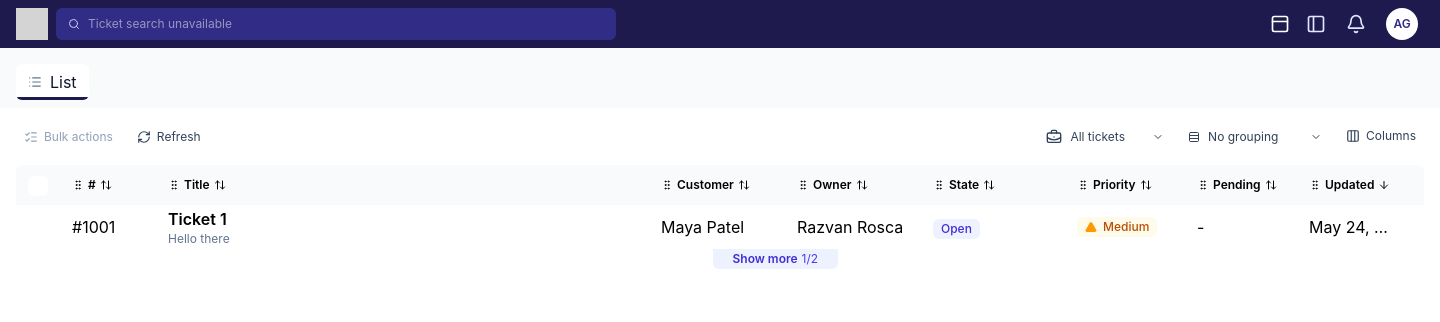
it: TicketWorkspace complete display-name sorting › keeps the prior list when a complete-result page cannot be loaded
Click the button "Owner": (853, 185) [797,177,909,193]
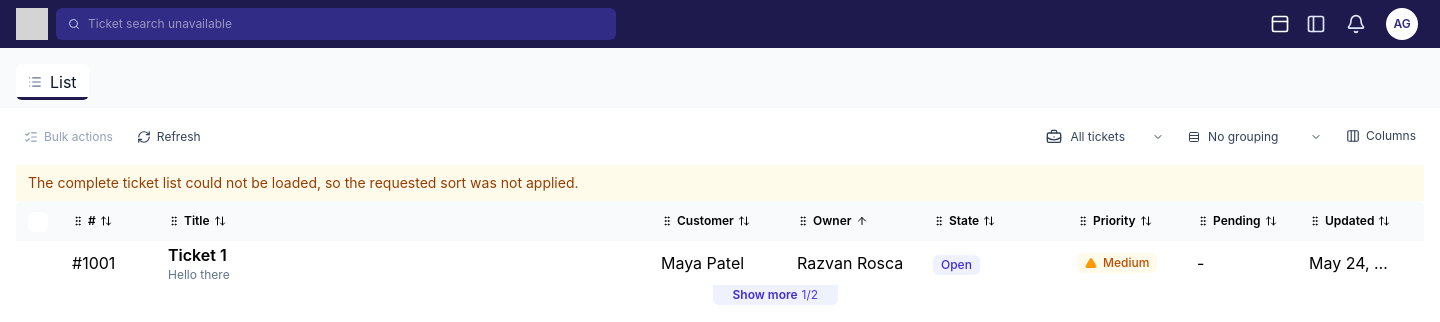
Expected: the text "Razvan Rosca" is shown, [797,251,903,275]
Expected: the message shows "complete ticket list could not be loaded", [28,174,578,191]
